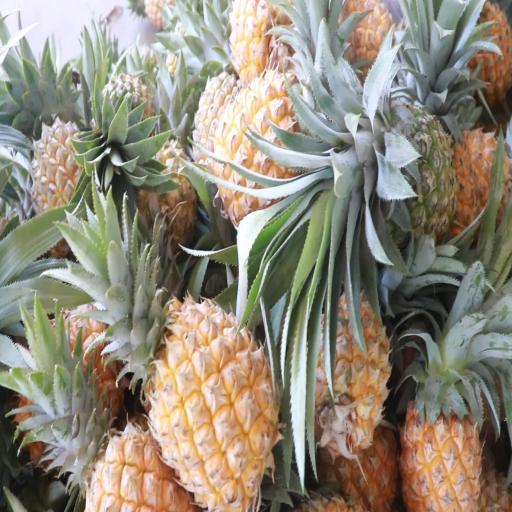Pineapple - v8 v1: (136, 290, 288, 506), (212, 68, 354, 226), (399, 295, 489, 512)
